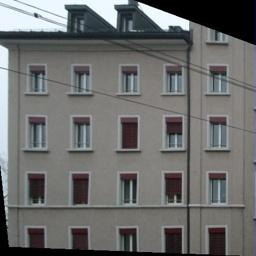building: (0, 3, 191, 256)
